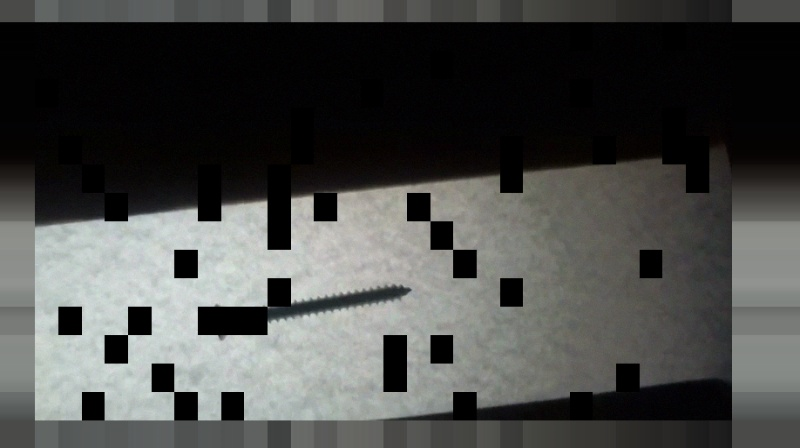S002: (211, 281, 414, 343)
